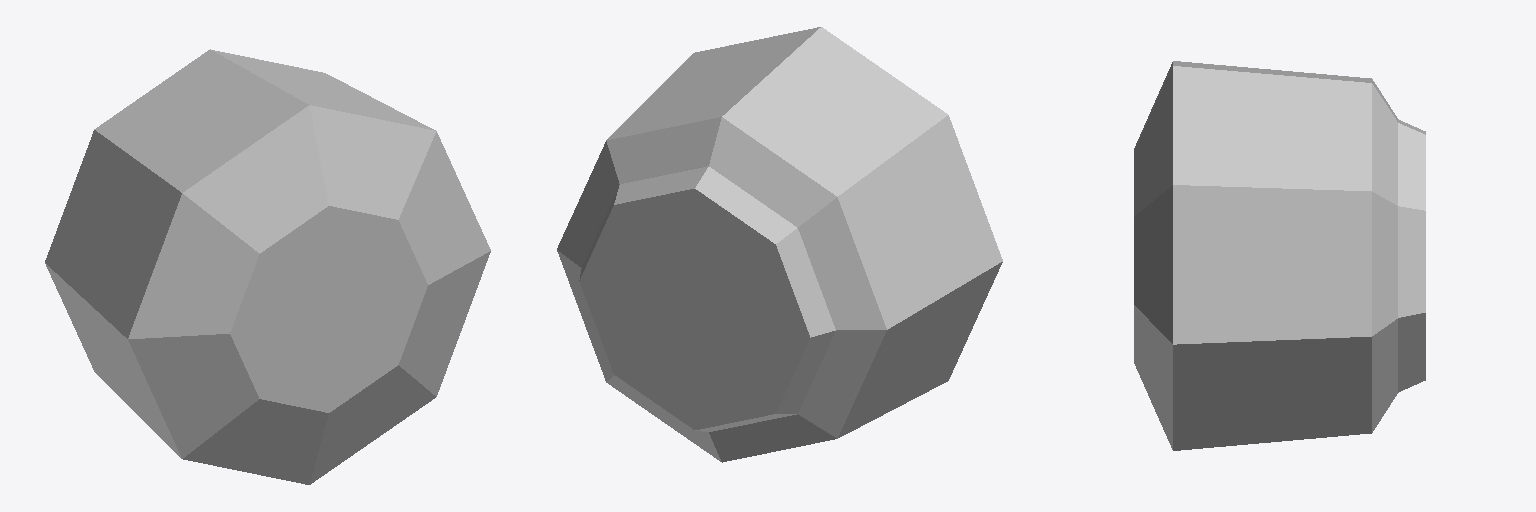
File: goldscepterhead.obj
The picture shows the model from 3 angles: view 1: azimuth 30°, elevation 25°; view 2: azimuth 150°, elevation 25°; view 3: azimuth 270°, elevation 25°; orthographic projection.
Parts seen in each view (by area): view 1: Base; view 2: Base; view 3: Base.
Part boxes in pixels (left/top/right/bottom): Base: left=45, top=49, right=490, bottom=484; Base: left=557, top=27, right=1002, bottom=462; Base: left=1134, top=61, right=1425, bottom=450.
Bounding box in the file's own units: 0.2112 × 0.2112 × 0.1472.